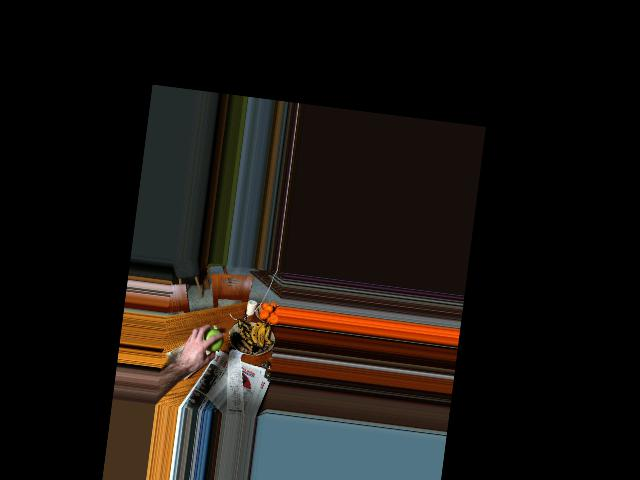apple: (197, 327, 224, 355)
